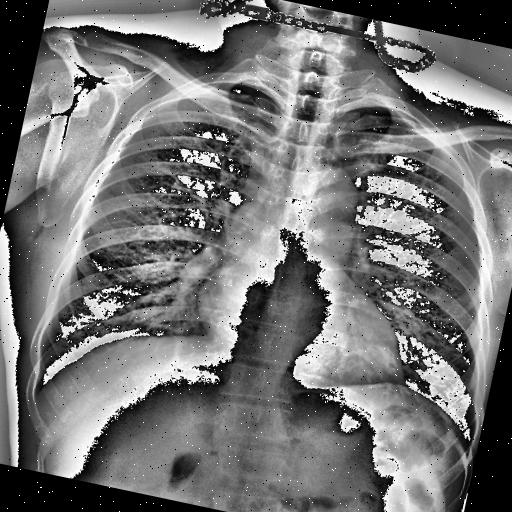0- Aortic enlargement: (290, 160, 366, 238), (284, 156, 365, 221), (296, 160, 364, 218)
11- Pleural thickening: (172, 68, 224, 108), (391, 108, 442, 142)
